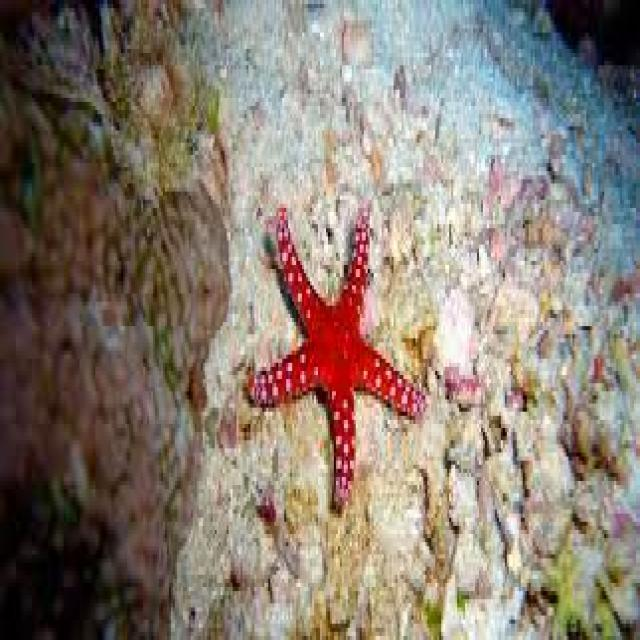starfish: (246, 208, 423, 510)
